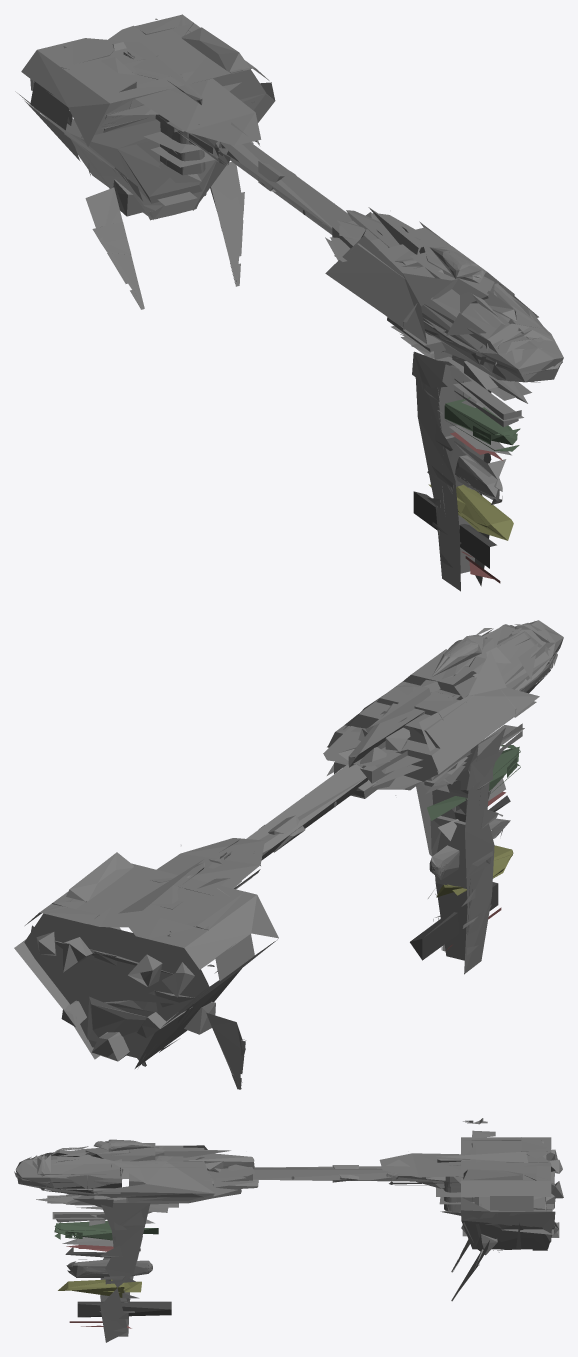
The model's file is nebulon.glb.
3 renders of one model, top to bottom at view 1: azimuth 30°, elevation 25°; view 2: azimuth 150°, elevation 25°; view 3: azimuth 270°, elevation 25°, orthographic. The views are drawn at different scales.
Parts seen in each view (by area): view 1: hq/nebulon; view 2: hq/nebulon; view 3: hq/nebulon.
Part boxes in pixels (<box>): hq/nebulon: <box>15,14,563,591</box>; hq/nebulon: <box>14,620,563,1089</box>; hq/nebulon: <box>14,1118,563,1342</box>.
Bounding box in the file's own units: 145 × 244 × 590.
